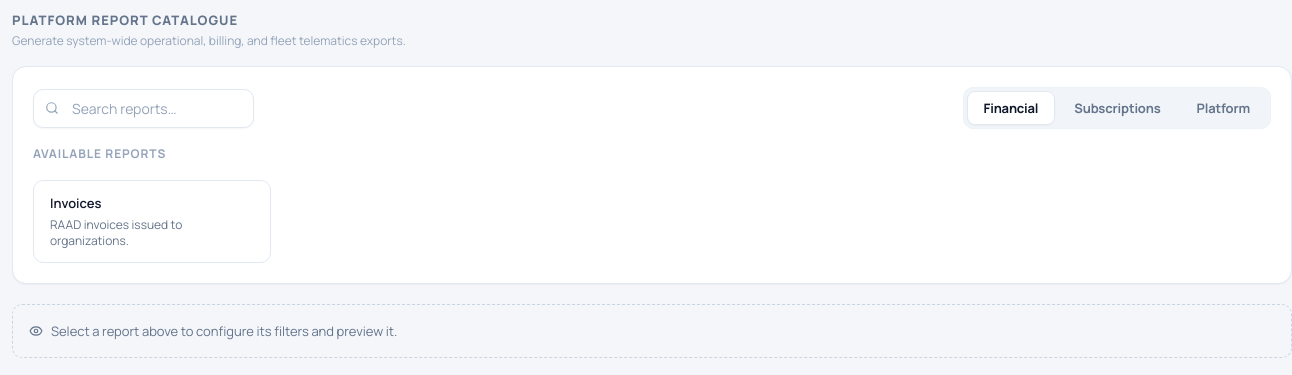
Test case: PlatformReportCenter › keeps Organizations/Regions/Plans/Vehicles/Drivers/Devices/Audit Logs reachable under Platform
Expected: the text "Audit Logs" is not shown
...until the Platform tab is selected, proving it was never dropped from the catalogue.
Click the tab "Platform".
click(1223, 108)  # box 1180,92 -> 1267,126
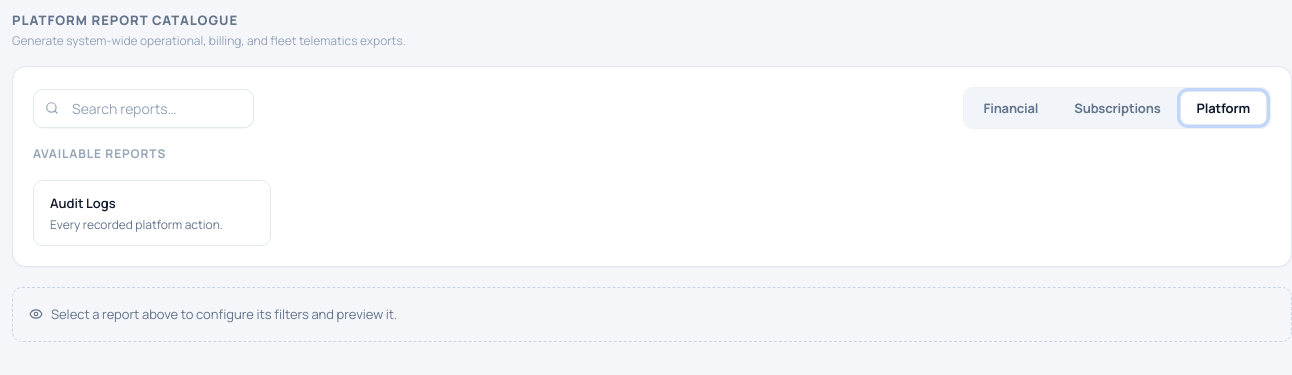
Result: the text "Audit Logs" is shown at 50,193 -> 116,213
